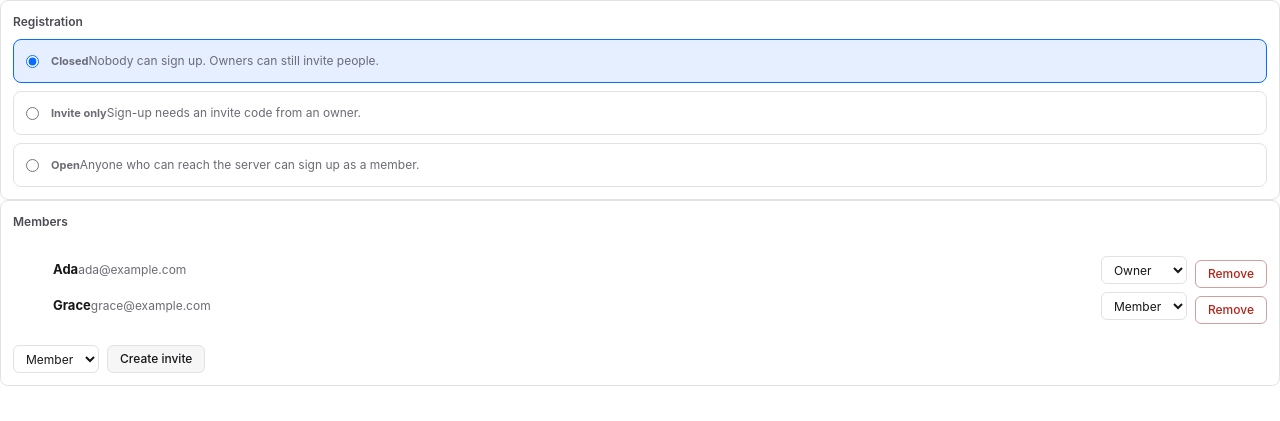
it: Members › lets an owner change registration, roles and invite someone
The width and height of the screenshot is (1280, 421).
Click the radio button labelled "Open" at (32, 166), box [26, 159, 39, 172]
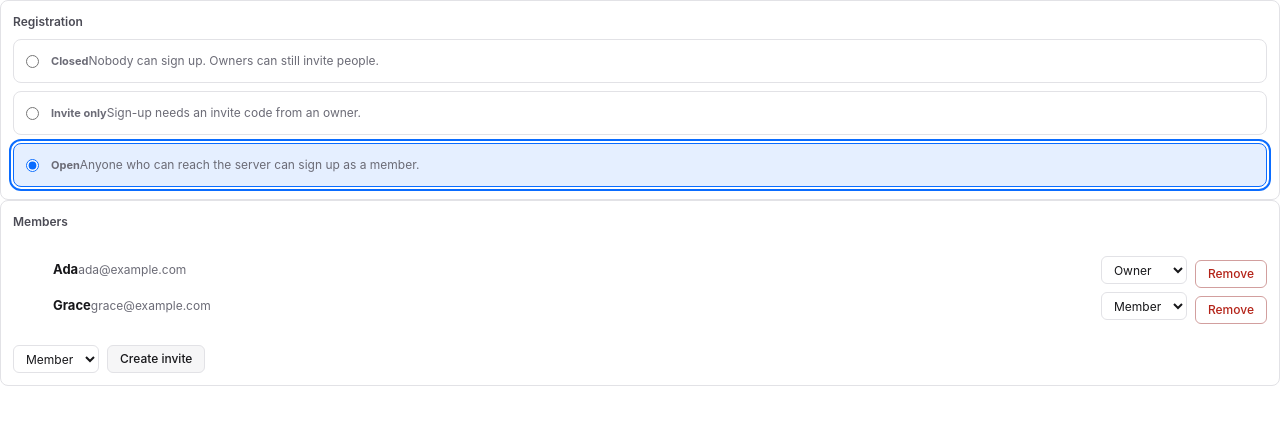
Select "Owner" in the dropdown named "Role of Grace" at (1144, 306), box [1101, 292, 1187, 320]
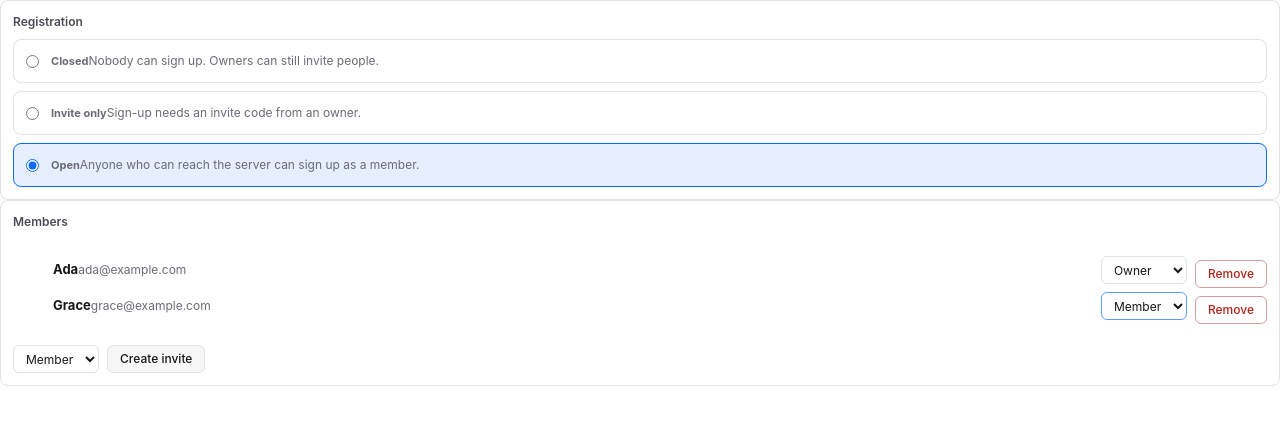
Click the button "Create invite" at (156, 359), box [107, 345, 205, 373]
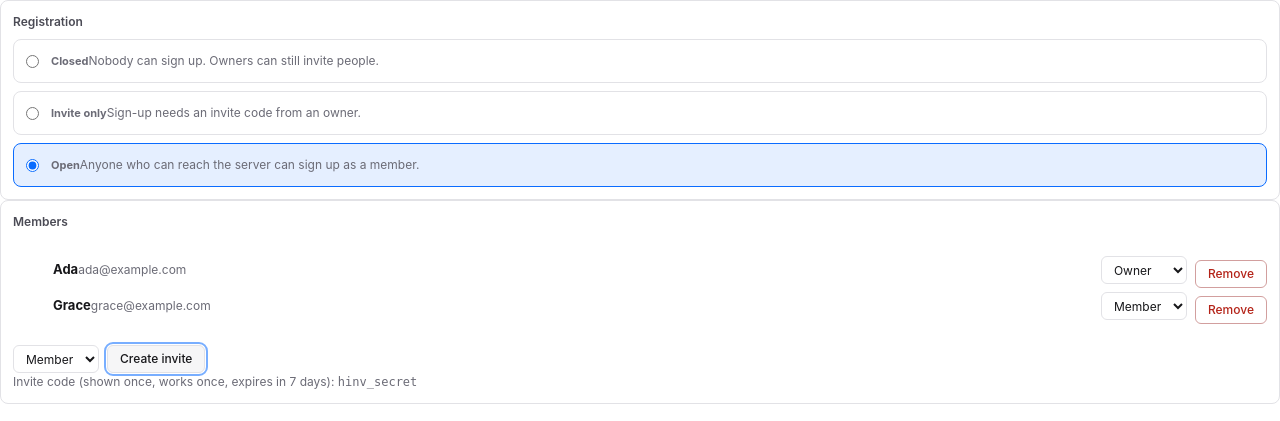
Check: the text "hinv_secret" is shown, box [338, 375, 417, 389]
